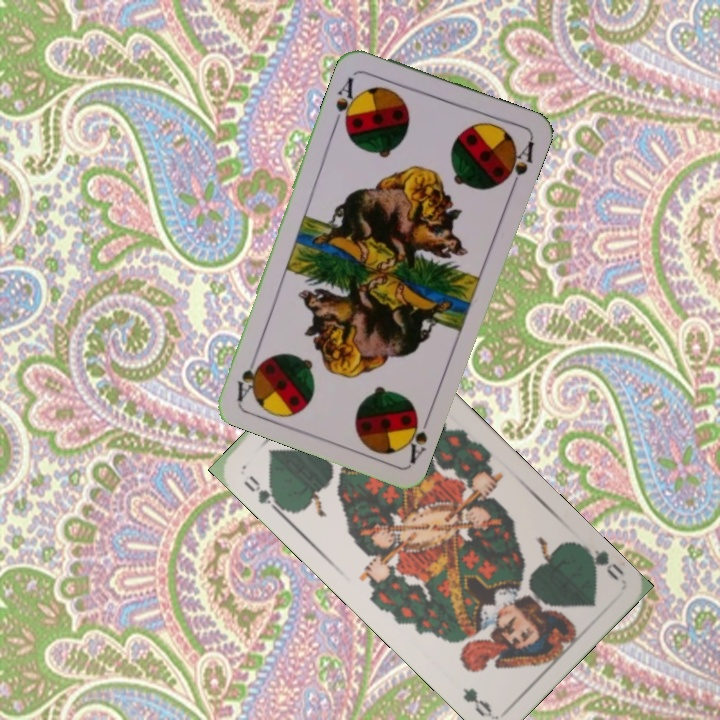GO: (576, 540, 627, 584), (239, 471, 286, 516)
SA: (397, 405, 434, 466), (330, 73, 362, 130)
